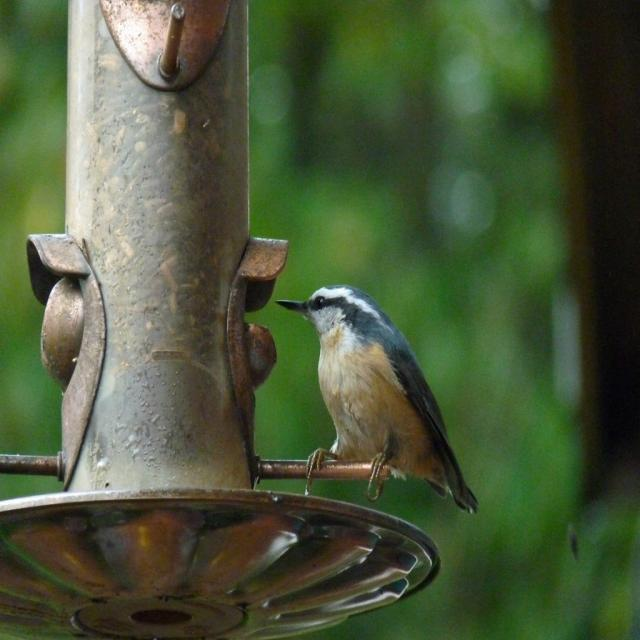bird: (274, 286, 476, 512)
